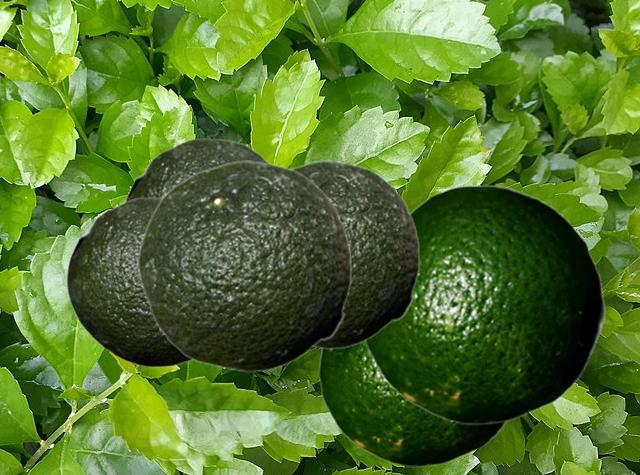calamansi: (362, 184, 605, 424), (137, 160, 351, 371), (291, 160, 419, 348), (318, 344, 506, 466), (66, 197, 190, 366), (122, 138, 271, 201)
